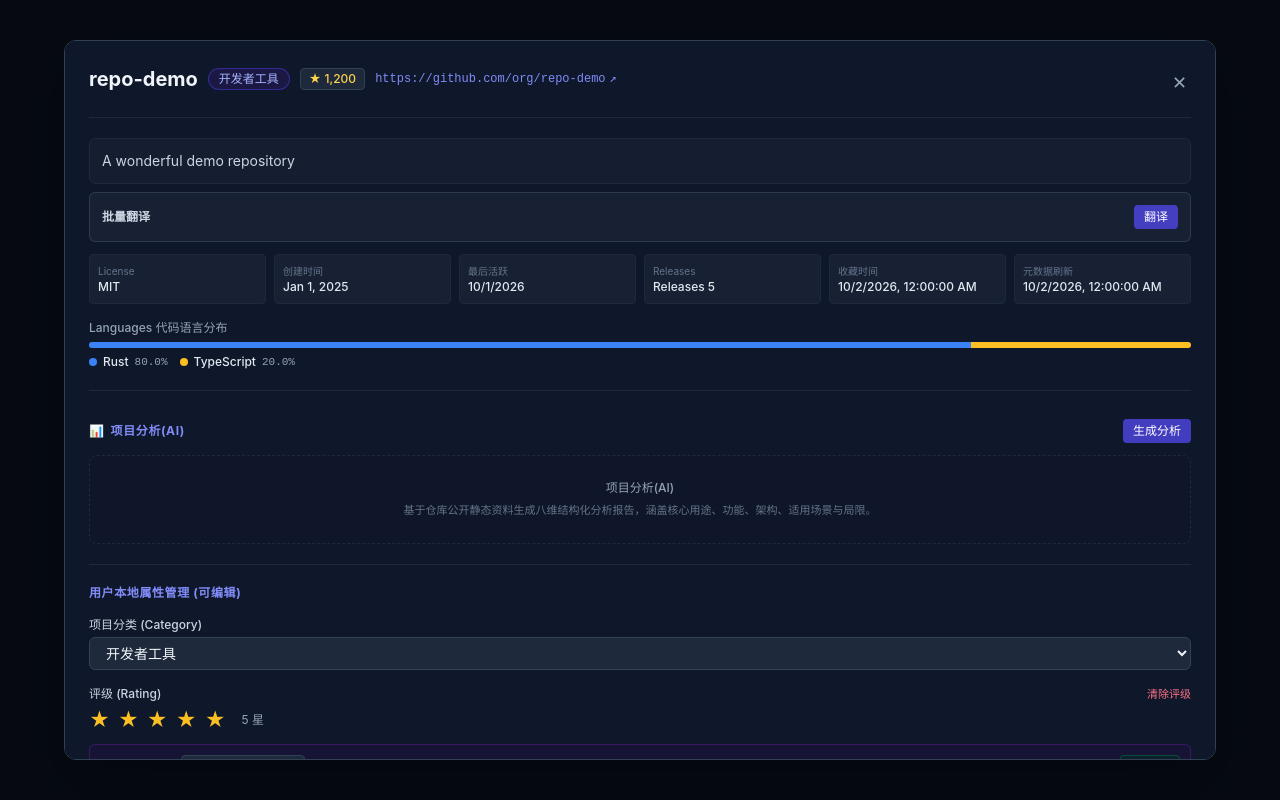
Test: S3 Repository Analysis Frontend Suites › FavoriteDetailModal Analysis Draft & Concurrency › handles save conflict gracefully when backend reports AnalysisConflict
// Trigger analysis
Click the button with test id "detail-analyze-btn".
click(1157, 431)  # box [1123, 419, 1191, 443]
(page scrolled)
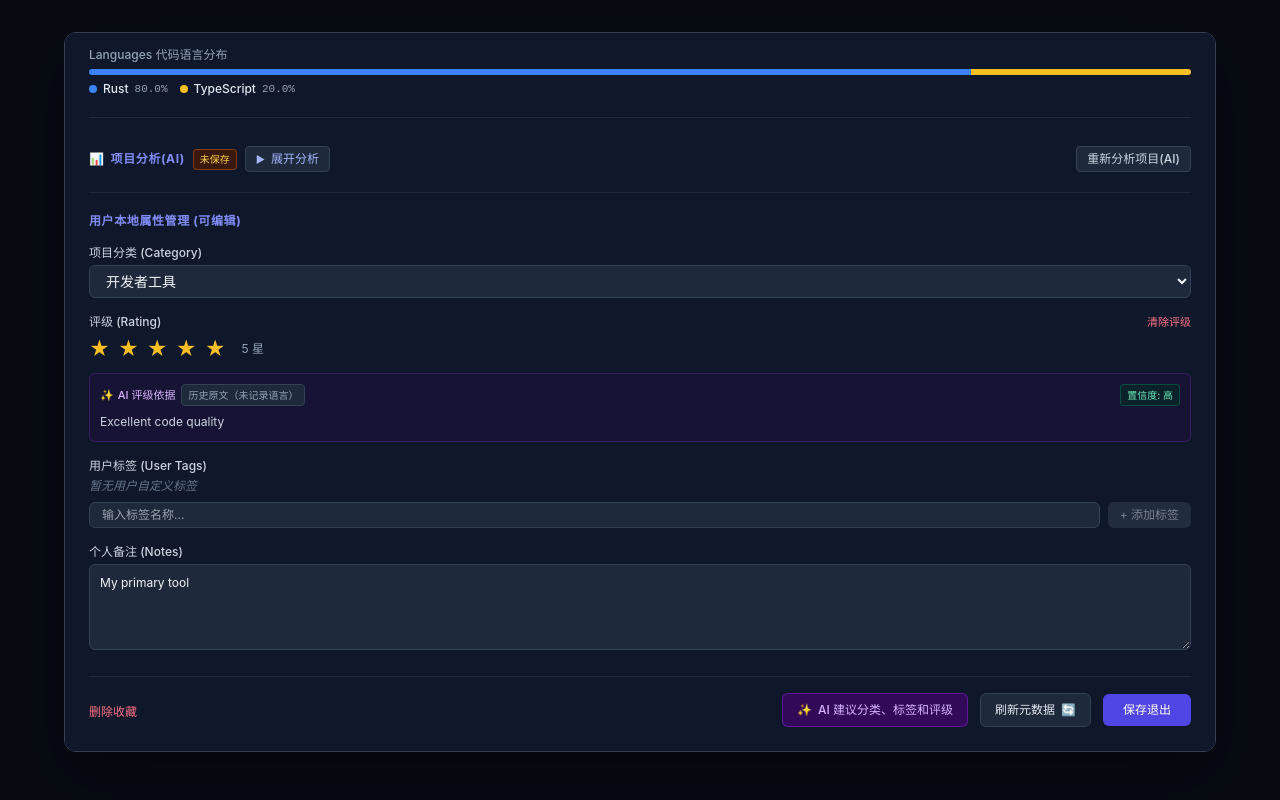
Now the text "未保存" is shown, box [193, 148, 237, 170]
// Save changes
Click the button with test id "detail-save-btn".
click(1147, 710)  # box [1103, 694, 1191, 726]
(page scrolled)
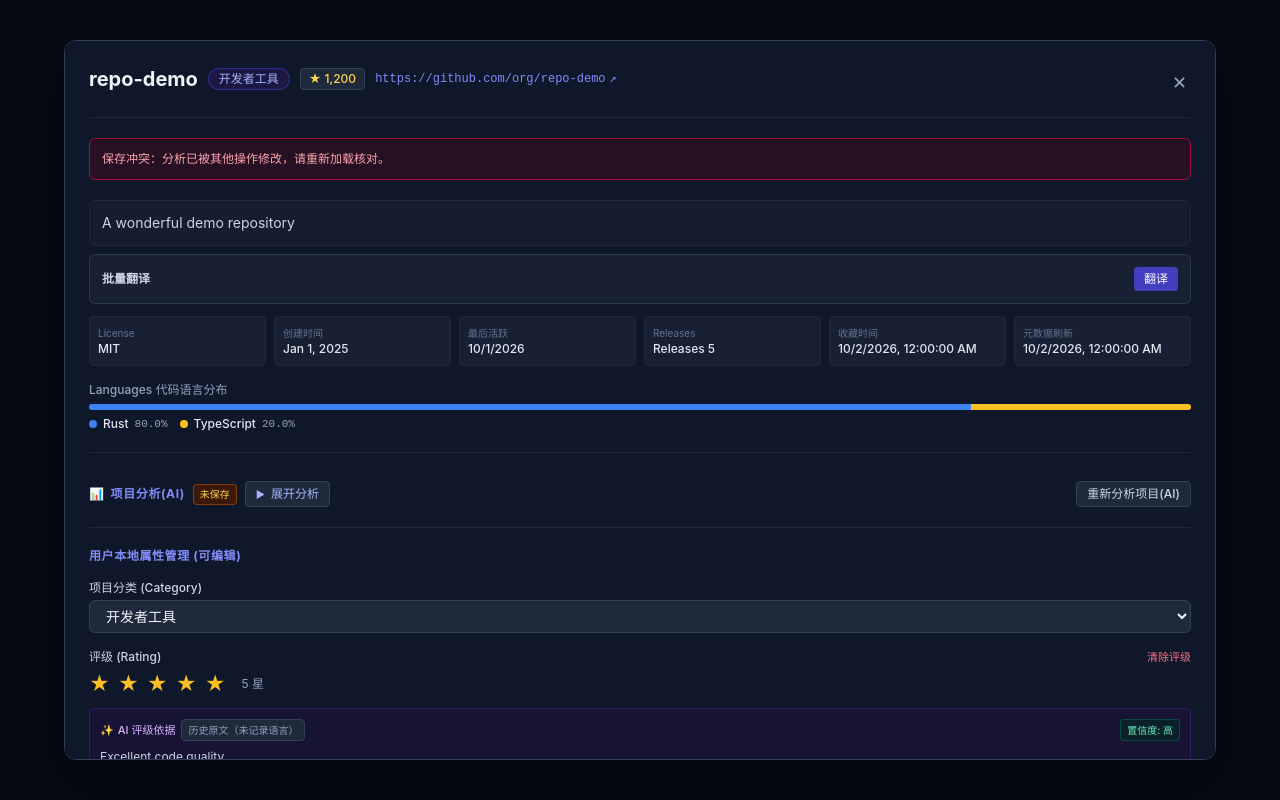
Now the text "保存冲突：分析已被其他操作修改，请重新加载核对。" is shown, box [89, 138, 1191, 180]
Now the text with test id "detail-feedback-banner" reads "保存冲突：分析已被其他操作修改，请重新加载核对。", box [102, 151, 390, 166]
